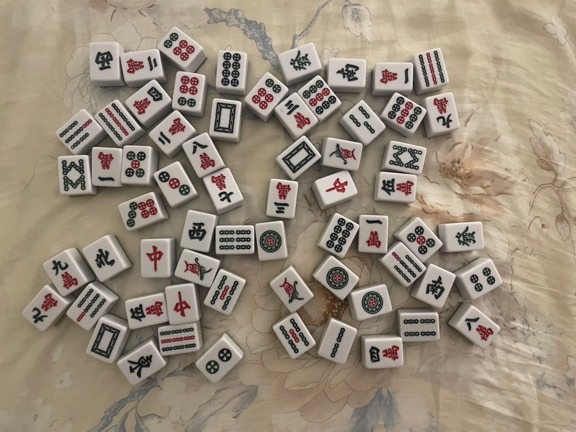b-1: (181, 255, 213, 282), (279, 277, 305, 305), (329, 142, 358, 165)
b-2: (329, 326, 346, 359)
b-3: (349, 104, 377, 136)
b-4: (403, 318, 437, 338)
b-5: (278, 317, 310, 354), (209, 274, 239, 311)
b-6: (217, 228, 253, 252)
b-7: (58, 117, 95, 149), (76, 287, 106, 323), (390, 251, 422, 283)
b-8: (388, 143, 423, 171), (61, 158, 87, 191)
b-9: (98, 102, 136, 141), (418, 50, 446, 87), (160, 327, 197, 352)
c-1: (363, 217, 384, 250), (379, 66, 410, 87), (96, 151, 116, 183)
c-2: (157, 117, 187, 145), (124, 54, 158, 77)
c-3: (284, 99, 312, 129), (273, 182, 293, 214)
c-4: (133, 87, 163, 115), (368, 342, 401, 365)
c-5: (129, 301, 164, 322), (379, 178, 414, 197)
c-7: (211, 173, 234, 203)
c-8: (191, 140, 216, 171), (465, 317, 494, 343)
c-9: (50, 258, 81, 291), (30, 292, 59, 325)
d-1: (325, 265, 349, 291), (360, 290, 384, 315), (259, 228, 282, 254)
d-2: (205, 347, 232, 375)
d-3: (157, 171, 192, 197)
d-4: (470, 266, 496, 292)
d-5: (407, 225, 436, 256), (124, 150, 147, 179)
d-6: (251, 77, 282, 111), (162, 32, 196, 61), (177, 74, 201, 108)
d-7: (126, 199, 158, 227)
d-8: (325, 218, 354, 253), (220, 51, 243, 87)
d-9: (302, 79, 338, 115), (388, 96, 422, 130), (432, 96, 454, 130)
honors-east: (126, 353, 154, 379)
honors-green: (453, 224, 477, 249), (289, 49, 312, 73)
honors-north: (94, 247, 116, 270)
honors-red: (145, 245, 166, 274), (171, 290, 191, 319), (324, 176, 350, 194)
honors-south: (425, 274, 446, 301), (335, 62, 362, 83)
honors-west: (93, 49, 114, 73), (187, 220, 207, 241)
honors-white: (282, 140, 317, 175), (90, 322, 121, 359), (213, 101, 237, 135)
